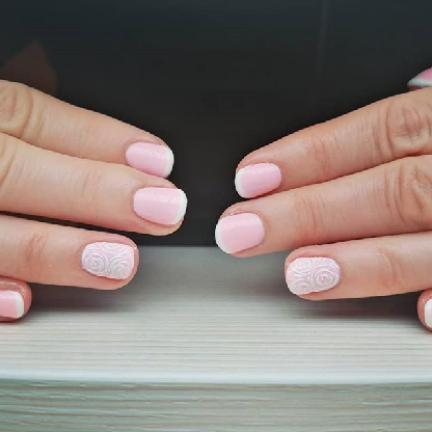Nail: (285, 256, 340, 295), (133, 187, 187, 225), (215, 213, 265, 254), (81, 241, 134, 279), (126, 142, 174, 178), (235, 163, 282, 199), (0, 289, 24, 318)
